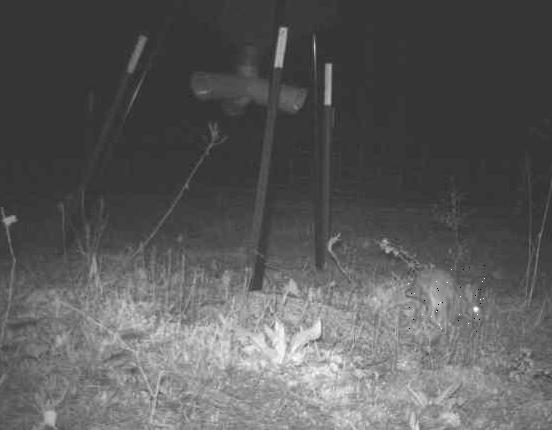Rabbit: (407, 264, 485, 332)
